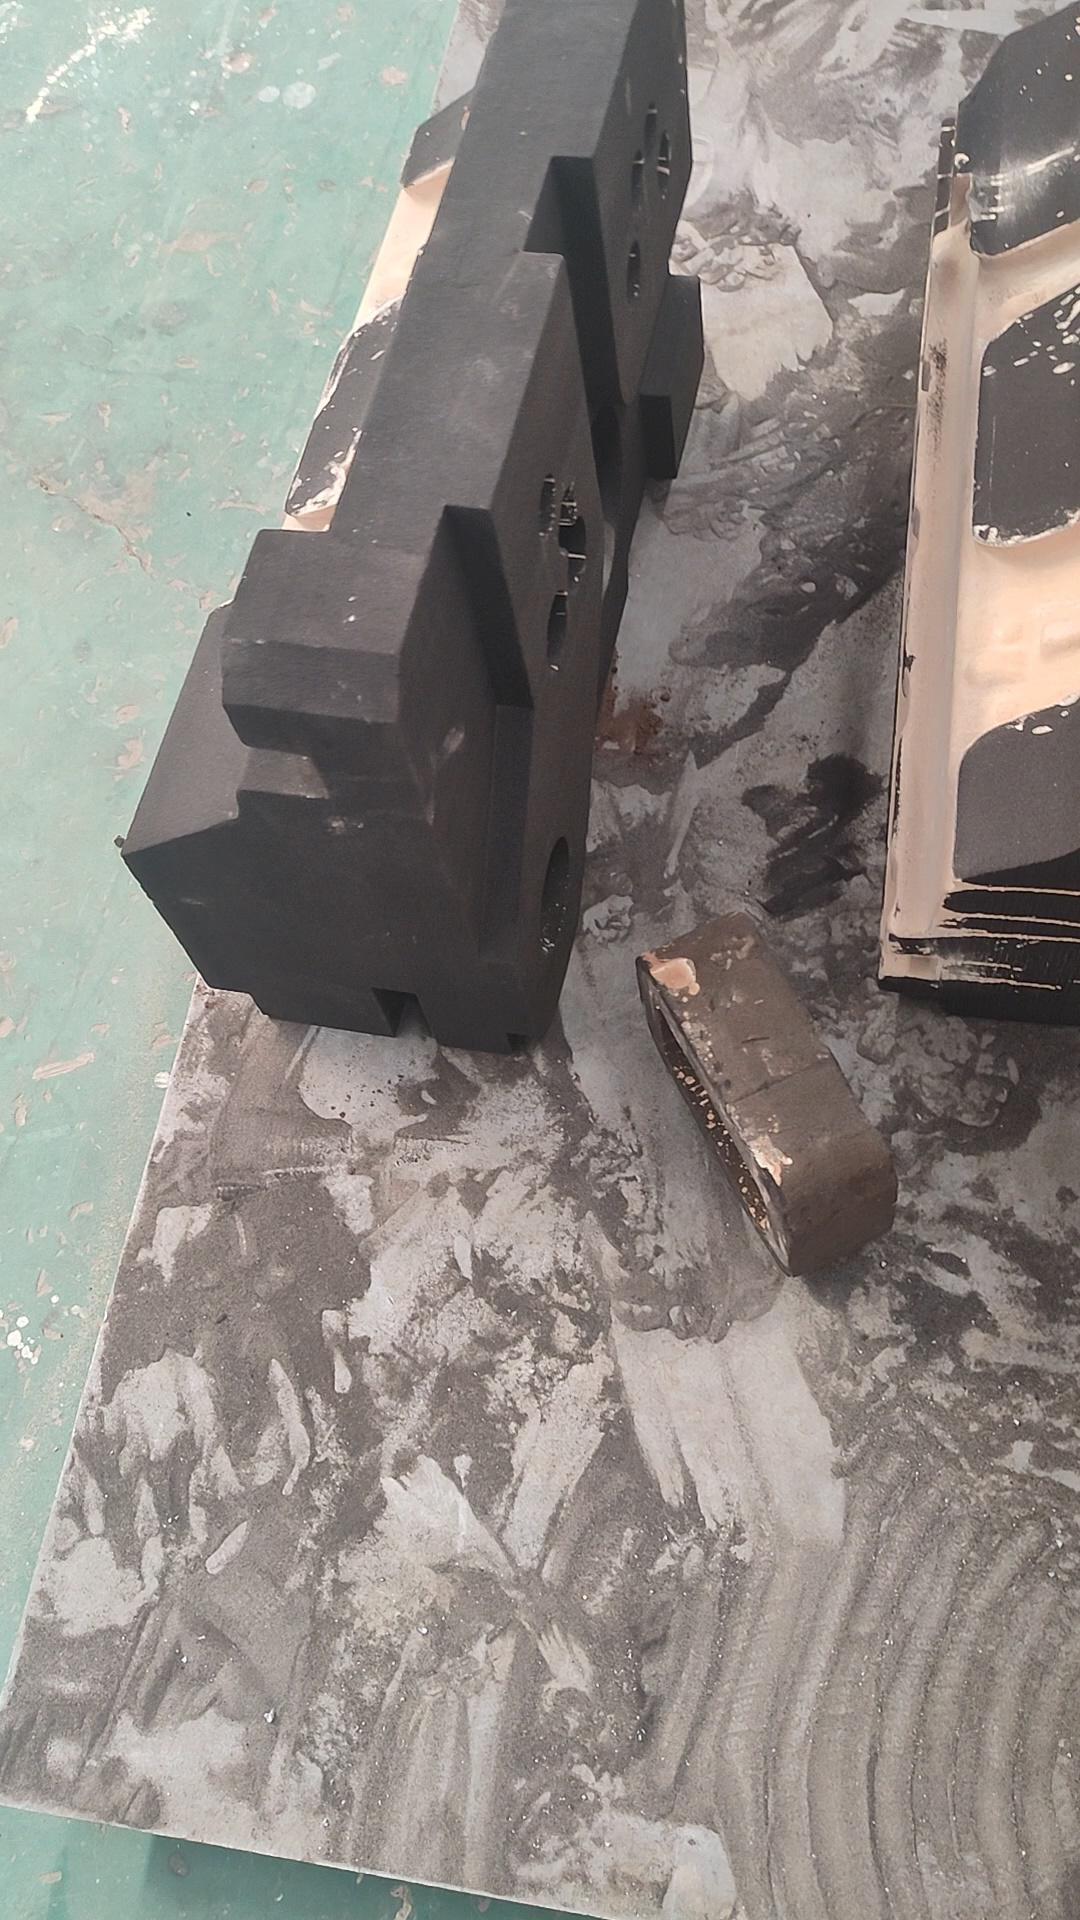pouring hole: (541, 836, 571, 955)
